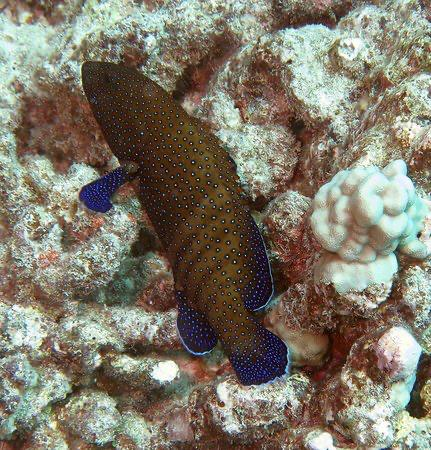Serranidae -Groupers-: (73, 58, 293, 387)
